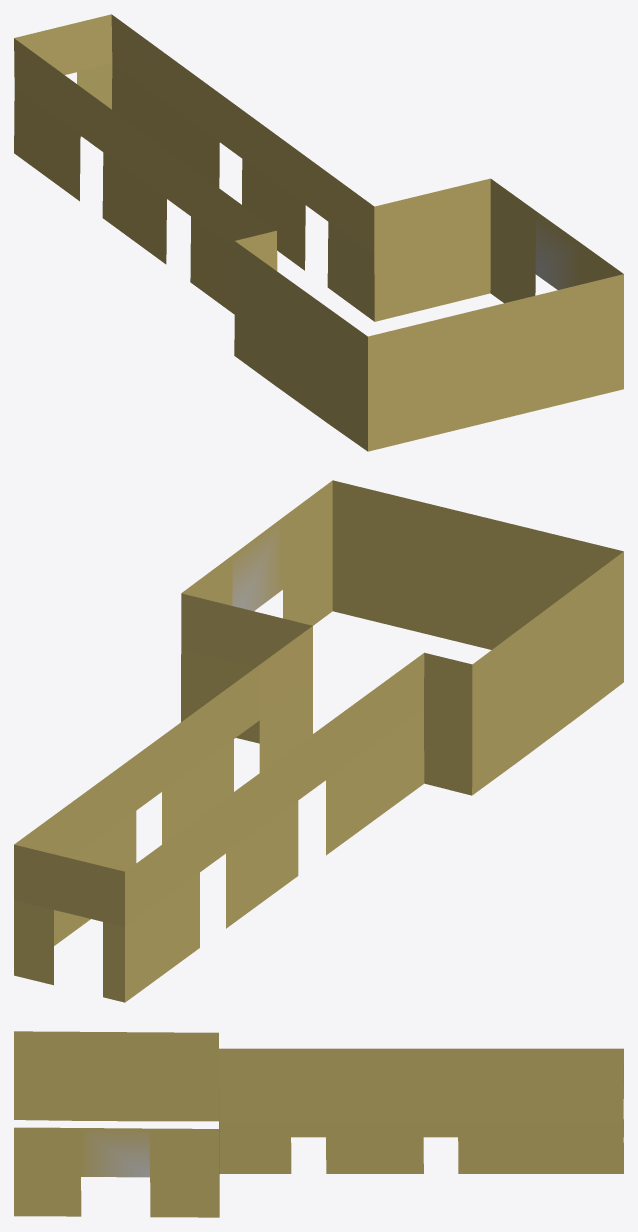
The model's file is Walls_Hallway.fbx.
3 renders of one model, top to bottom at view 1: azimuth 30°, elevation 25°; view 2: azimuth 150°, elevation 25°; view 3: azimuth 270°, elevation 25°, orthographic. The views are drawn at different scales.
Visible parts, largest first — view 1: Walls_Hallway; view 2: Walls_Hallway; view 3: Walls_Hallway.
Part boxes in pixels (x1,y1,x2,y2): Walls_Hallway: (14,14,623,451); Walls_Hallway: (14,480,623,1002); Walls_Hallway: (14,1031,623,1217).
Size of the model in its own units: 10.28 by 4.49 by 27.55.
